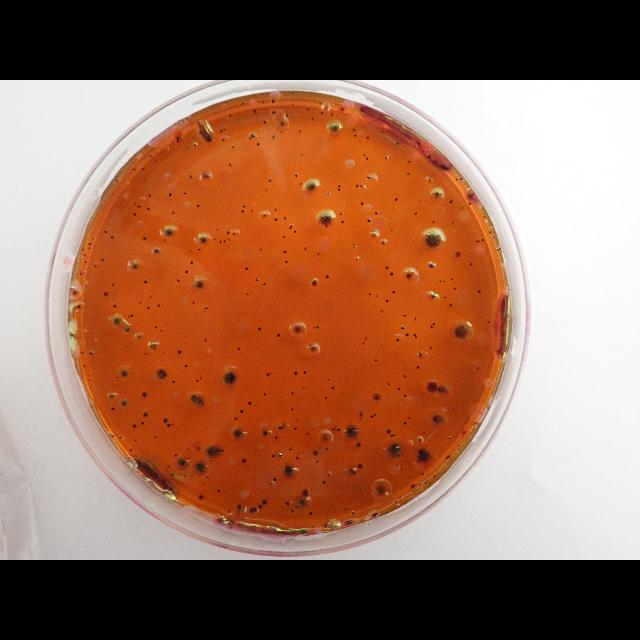colony: (419, 227, 443, 251), (413, 446, 433, 466), (452, 321, 472, 341), (424, 410, 446, 428), (219, 369, 241, 387), (371, 480, 389, 498), (190, 392, 206, 408), (327, 120, 343, 134), (318, 210, 334, 224), (206, 444, 222, 458), (290, 322, 306, 336), (424, 380, 438, 394), (282, 464, 296, 478), (346, 422, 358, 438), (162, 225, 176, 238), (195, 232, 209, 245), (156, 367, 168, 381), (128, 260, 142, 272), (308, 340, 318, 356), (194, 461, 206, 474), (306, 180, 318, 192), (388, 443, 400, 455), (119, 368, 131, 380), (106, 391, 118, 402), (200, 171, 212, 181), (432, 189, 444, 199), (233, 428, 243, 440), (151, 246, 163, 256), (403, 271, 415, 281), (248, 507, 258, 518), (194, 278, 203, 290), (372, 392, 382, 402), (177, 458, 187, 468), (112, 316, 122, 326), (148, 340, 158, 350), (348, 466, 358, 476), (300, 487, 310, 497), (276, 422, 286, 432), (428, 292, 440, 300), (369, 510, 378, 520), (119, 398, 128, 408), (454, 249, 462, 259), (426, 262, 436, 270), (436, 386, 446, 394), (298, 498, 306, 508), (261, 428, 269, 438), (310, 278, 318, 286), (141, 411, 149, 419), (140, 390, 148, 398), (206, 135, 214, 143), (278, 120, 286, 128), (466, 192, 474, 200), (379, 239, 386, 247), (284, 499, 290, 508), (357, 462, 363, 470), (447, 434, 453, 442), (260, 499, 268, 505), (241, 457, 247, 465), (162, 416, 168, 424), (132, 422, 138, 430), (72, 288, 78, 296), (136, 333, 142, 341), (143, 278, 149, 286), (448, 198, 454, 206), (256, 325, 262, 333), (201, 306, 209, 312), (312, 449, 318, 457), (260, 212, 268, 218), (366, 218, 372, 225), (308, 509, 314, 516), (235, 503, 242, 509), (198, 494, 204, 501), (88, 349, 94, 356), (125, 326, 132, 332), (475, 238, 481, 245), (327, 469, 333, 476), (142, 235, 148, 242), (340, 106, 346, 112), (393, 196, 399, 202), (359, 200, 365, 206), (400, 325, 406, 331), (396, 386, 402, 392), (330, 385, 336, 391), (386, 428, 392, 434), (355, 442, 361, 448), (350, 509, 356, 515), (322, 522, 328, 528), (272, 476, 278, 482), (195, 445, 201, 451), (117, 435, 123, 441), (110, 406, 116, 412), (194, 378, 200, 384), (76, 304, 82, 310), (156, 302, 162, 308), (188, 174, 194, 180), (230, 144, 236, 150), (270, 98, 276, 104), (445, 454, 451, 460), (321, 479, 327, 485), (277, 452, 283, 458), (292, 426, 298, 432), (292, 370, 298, 376), (302, 369, 308, 375), (236, 346, 242, 352), (190, 300, 196, 306), (258, 247, 264, 253), (254, 277, 260, 283), (276, 332, 282, 338), (248, 208, 254, 214), (418, 436, 422, 444), (270, 454, 278, 458), (108, 430, 112, 438), (112, 432, 116, 440), (130, 312, 134, 320), (102, 292, 110, 296), (234, 414, 238, 422), (190, 258, 194, 266), (262, 280, 266, 288), (246, 290, 250, 298), (496, 245, 500, 252), (316, 324, 320, 331), (268, 178, 272, 185), (318, 100, 322, 106), (330, 112, 334, 118), (306, 106, 310, 112), (365, 135, 369, 141), (395, 140, 399, 146), (384, 154, 388, 160), (359, 183, 363, 189), (355, 183, 359, 189), (352, 244, 358, 248), (304, 246, 308, 252), (418, 352, 422, 358), (403, 392, 407, 398), (370, 413, 374, 419), (400, 466, 404, 472), (410, 484, 416, 488), (343, 506, 347, 512), (348, 520, 352, 526), (258, 503, 262, 509), (217, 488, 221, 494), (269, 482, 275, 486), (170, 472, 174, 478), (166, 464, 172, 468), (153, 434, 157, 440), (166, 422, 170, 428), (140, 420, 144, 426), (172, 379, 176, 385), (184, 363, 188, 369), (115, 374, 119, 380), (80, 349, 84, 355), (112, 303, 116, 309), (111, 282, 115, 288), (146, 305, 150, 311), (154, 324, 158, 330), (143, 352, 149, 356), (176, 350, 182, 354), (160, 328, 164, 334), (93, 264, 99, 268), (79, 271, 83, 277), (110, 234, 114, 240), (148, 192, 152, 198), (132, 166, 136, 172), (168, 191, 172, 197), (183, 190, 187, 196), (193, 142, 197, 148), (228, 162, 232, 168), (253, 108, 257, 114), (271, 134, 275, 140), (250, 134, 256, 138), (270, 110, 276, 114), (285, 112, 289, 118), (298, 128, 302, 134), (428, 178, 434, 182), (414, 210, 418, 216), (431, 219, 435, 225), (459, 176, 463, 182), (488, 229, 492, 235), (477, 288, 481, 294), (442, 295, 448, 299), (428, 346, 434, 350), (294, 504, 298, 510), (290, 508, 294, 514), (274, 435, 280, 439), (239, 408, 243, 414), (248, 400, 252, 406), (290, 390, 294, 396), (290, 406, 294, 412), (265, 372, 269, 378), (176, 278, 180, 284), (184, 269, 188, 275), (188, 248, 192, 254), (215, 227, 219, 233), (219, 239, 223, 245), (223, 238, 227, 244), (244, 266, 248, 272), (324, 395, 328, 401), (316, 459, 320, 465), (330, 426, 336, 430), (240, 208, 244, 214), (264, 186, 268, 192), (431, 324, 434, 330), (82, 246, 85, 252), (320, 111, 324, 115), (291, 102, 295, 106), (311, 116, 315, 120), (352, 128, 356, 132), (381, 130, 385, 134), (365, 157, 369, 161), (366, 176, 370, 180), (406, 172, 410, 176), (327, 191, 331, 195), (374, 211, 378, 215), (338, 212, 342, 216), (340, 220, 344, 224), (294, 174, 298, 178), (316, 252, 320, 256), (325, 274, 329, 278), (283, 250, 287, 254), (284, 260, 288, 264), (282, 235, 286, 239), (283, 216, 287, 220), (274, 218, 278, 222), (385, 266, 389, 270), (390, 272, 394, 276), (392, 290, 396, 294), (368, 292, 372, 296), (402, 314, 406, 318), (432, 322, 436, 326), (405, 332, 409, 336), (387, 381, 391, 385), (374, 358, 378, 362), (364, 336, 368, 340), (326, 378, 330, 382), (359, 417, 363, 421), (403, 421, 407, 425), (422, 431, 426, 435), (408, 475, 412, 479), (421, 472, 425, 476), (418, 482, 422, 486), (394, 500, 398, 504), (311, 523, 315, 527), (227, 510, 231, 514), (206, 475, 210, 479), (221, 448, 225, 452), (186, 447, 190, 451), (174, 453, 178, 457), (186, 456, 190, 460), (171, 422, 175, 426), (129, 448, 133, 452), (198, 376, 202, 380), (88, 386, 92, 390), (82, 364, 86, 368), (138, 301, 142, 305), (148, 294, 152, 298), (101, 258, 105, 262), (83, 260, 87, 264), (88, 242, 92, 246), (104, 230, 108, 234), (133, 212, 137, 216), (146, 207, 150, 211), (141, 167, 145, 171), (148, 154, 152, 158), (154, 159, 158, 163), (171, 210, 175, 214), (196, 204, 200, 208), (176, 135, 180, 139), (219, 129, 223, 133), (228, 114, 232, 118), (241, 102, 245, 106), (263, 120, 267, 124), (248, 137, 252, 141), (256, 142, 260, 146), (454, 177, 458, 181), (482, 215, 486, 219), (450, 277, 454, 281), (449, 303, 453, 307), (457, 448, 461, 452), (444, 459, 448, 463), (295, 456, 299, 460), (288, 448, 292, 452), (263, 392, 267, 396), (204, 338, 208, 342), (162, 238, 166, 242), (197, 248, 201, 252), (226, 230, 230, 234), (232, 232, 236, 236), (295, 418, 299, 422), (337, 428, 341, 432), (242, 204, 246, 208), (274, 207, 278, 211), (364, 152, 366, 158), (338, 185, 342, 188), (381, 309, 384, 313), (416, 365, 419, 369), (374, 412, 376, 418), (391, 434, 394, 438), (184, 472, 186, 478), (188, 462, 190, 468), (87, 247, 91, 250), (137, 205, 141, 208), (115, 179, 118, 183), (222, 128, 225, 132), (461, 206, 464, 210), (481, 238, 484, 242), (470, 261, 472, 267), (446, 462, 449, 466), (424, 481, 428, 484), (270, 371, 272, 377), (162, 351, 165, 355), (314, 325, 316, 331), (197, 122, 200, 125), (354, 134, 356, 138), (408, 160, 410, 164), (338, 188, 340, 192), (326, 224, 328, 228), (300, 182, 302, 186), (300, 154, 304, 156), (294, 230, 296, 234), (288, 227, 292, 229), (386, 299, 388, 303), (376, 295, 378, 299), (414, 317, 416, 321), (396, 338, 398, 342), (362, 342, 364, 346), (360, 412, 362, 416), (408, 415, 410, 419), (398, 453, 400, 457), (210, 459, 212, 463), (134, 438, 136, 442), (88, 378, 90, 382), (88, 373, 90, 377), (126, 316, 130, 318), (134, 201, 136, 205), (222, 138, 224, 142), (262, 100, 264, 104), (280, 130, 282, 134), (452, 221, 454, 225), (468, 202, 470, 206), (492, 236, 496, 238), (444, 280, 446, 284), (453, 288, 457, 290), (488, 320, 490, 324), (476, 366, 478, 370), (458, 443, 460, 447), (434, 474, 436, 478), (429, 481, 431, 485), (213, 238, 217, 240), (92, 237, 94, 240), (414, 334, 416, 336), (415, 336, 417, 338), (393, 434, 395, 436), (84, 254, 86, 256), (177, 140, 179, 142), (187, 146, 189, 148), (440, 280, 442, 282), (228, 238, 230, 240)
